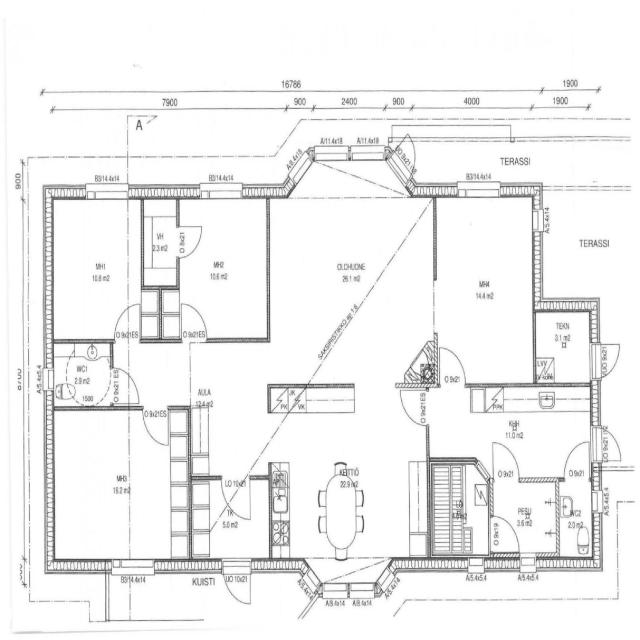door: (486, 466, 560, 560), (151, 202, 187, 276), (487, 436, 524, 484), (223, 477, 254, 526), (397, 386, 431, 430), (489, 511, 522, 556), (222, 558, 252, 607), (436, 343, 468, 388), (175, 220, 207, 264), (561, 438, 592, 481), (594, 425, 624, 466), (180, 300, 208, 343), (142, 405, 170, 447), (594, 341, 622, 380), (114, 366, 140, 406), (114, 303, 138, 339), (530, 206, 545, 235)
window: (390, 130, 418, 183), (284, 146, 312, 191), (110, 558, 159, 579), (455, 181, 503, 202), (197, 184, 247, 204), (83, 184, 131, 204), (374, 558, 396, 597), (518, 551, 540, 574), (466, 556, 486, 573)
zone: (265, 164, 443, 410), (268, 398, 430, 560), (48, 405, 194, 568), (431, 191, 537, 387), (178, 193, 269, 344), (49, 195, 143, 340), (538, 188, 639, 304), (426, 458, 488, 560), (488, 474, 560, 560), (534, 308, 592, 388), (49, 339, 114, 408), (140, 196, 180, 290), (558, 475, 597, 562)
